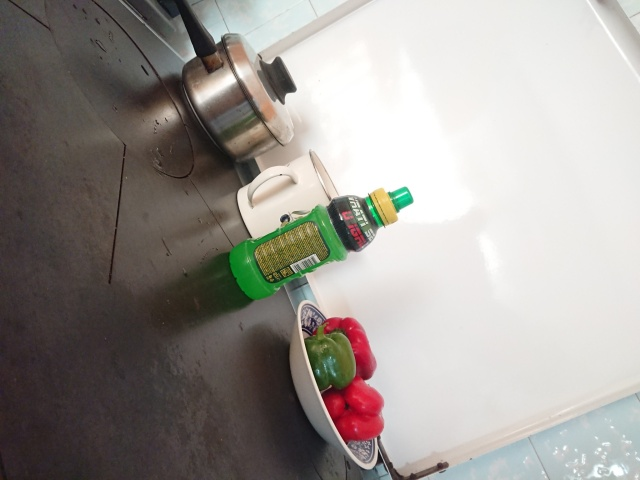Vindi Iso Sport Lemon-Grapefruit 500mL: (226, 184, 416, 303)
